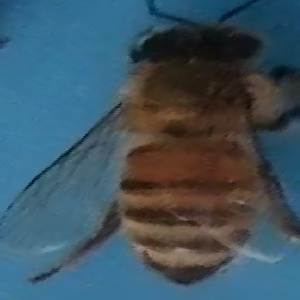bee: (37, 3, 297, 286)
